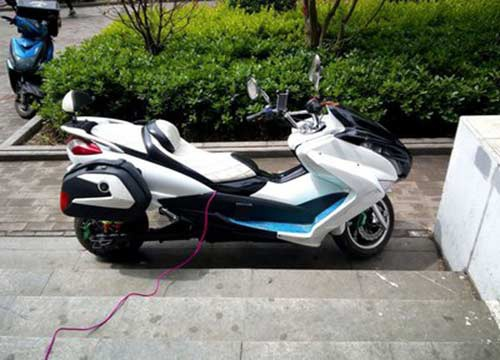non-vehicle: (56, 100, 413, 261), (1, 1, 54, 119)
